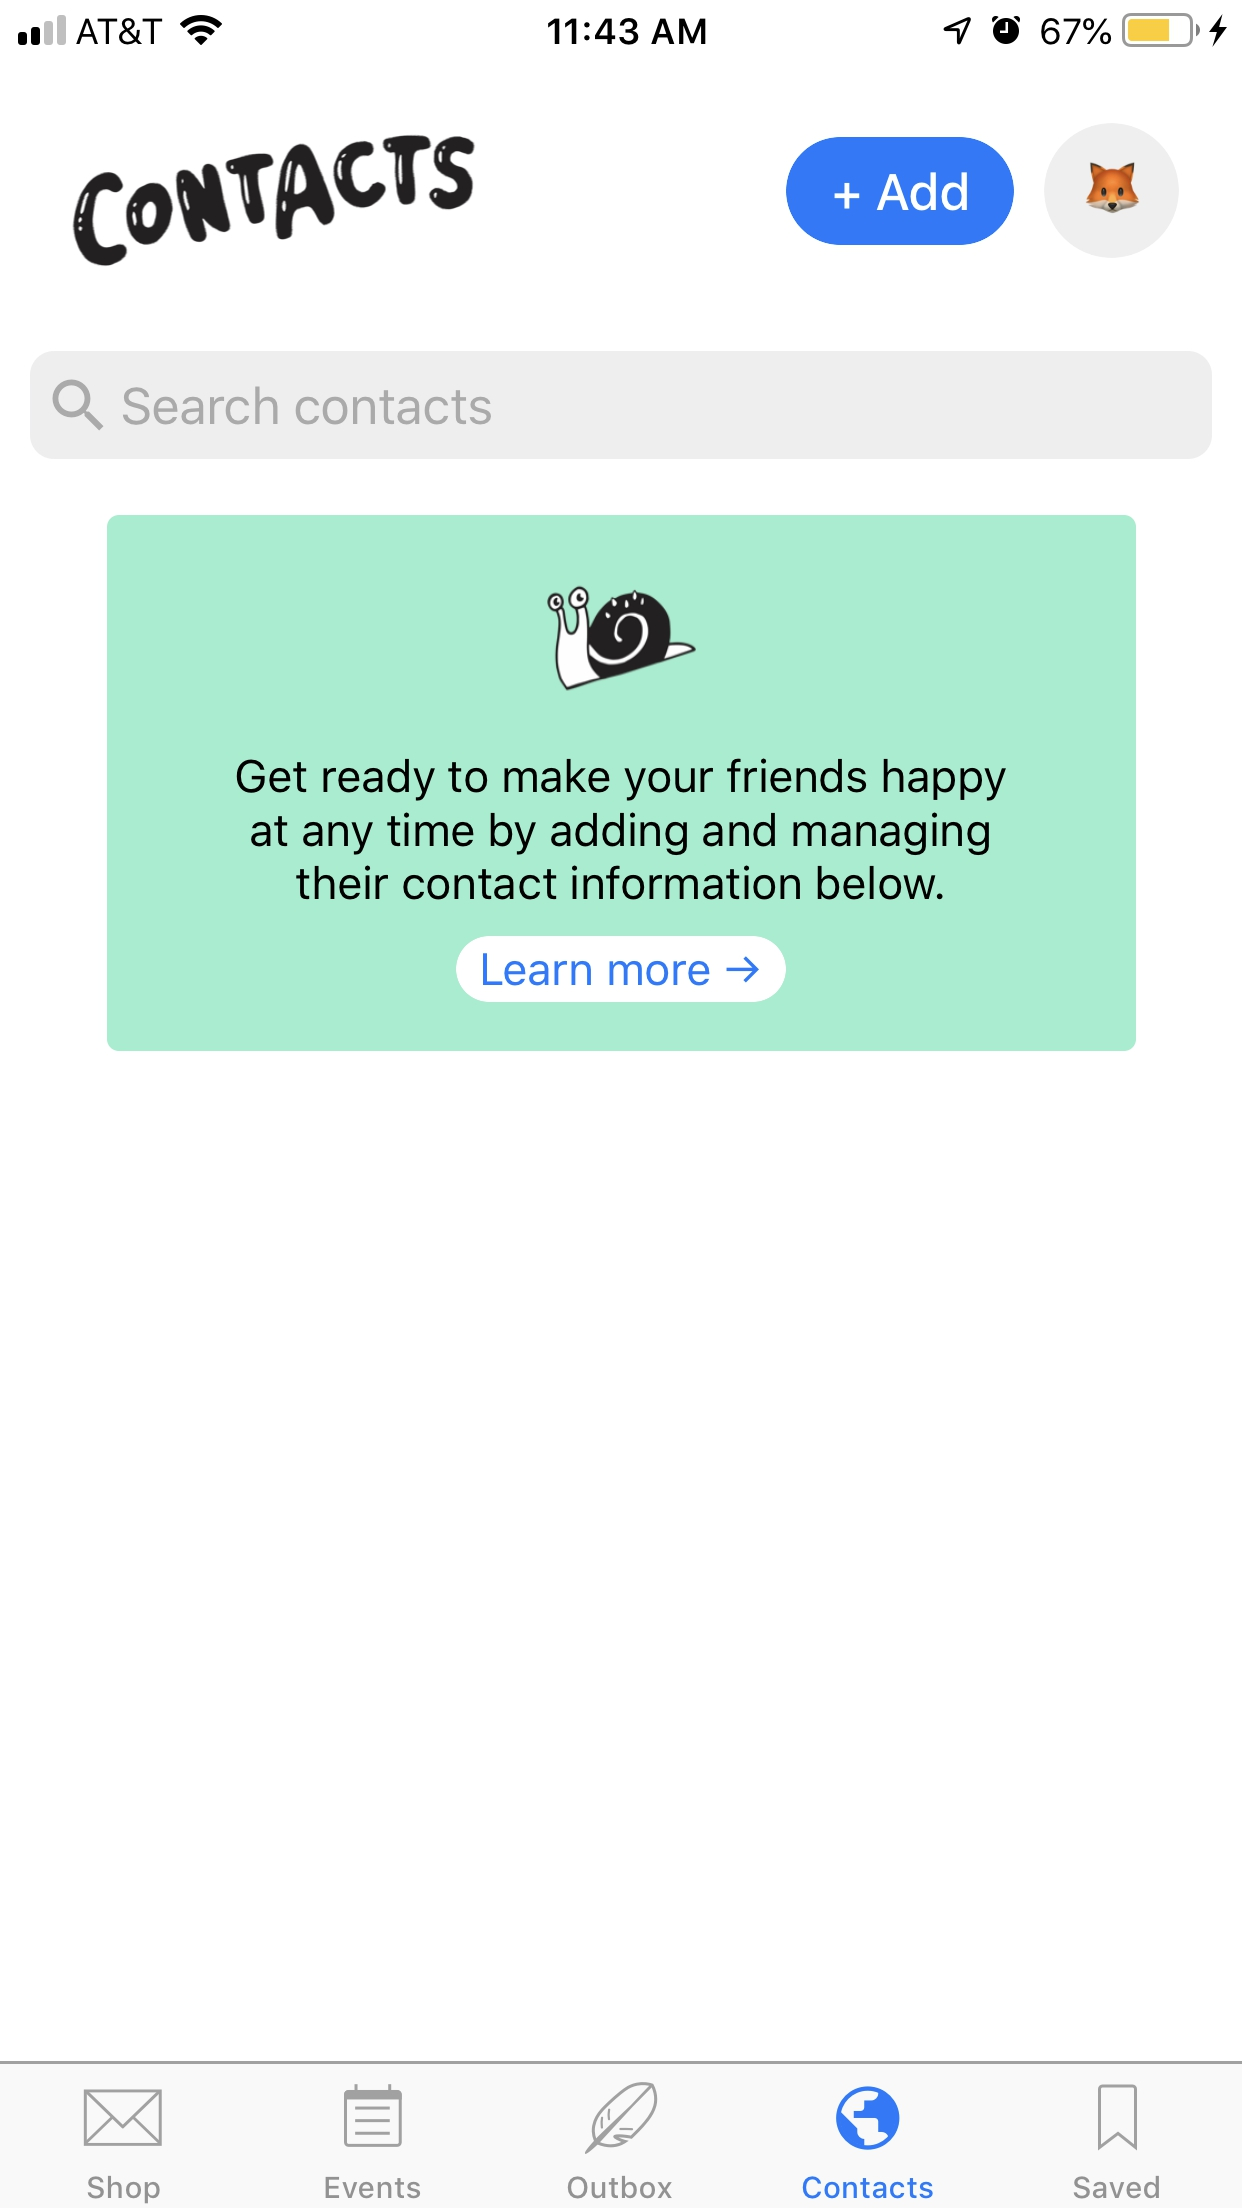EditText: (30, 350, 1213, 459)
Icon: (83, 2088, 164, 2146), (344, 2084, 403, 2147), (53, 379, 105, 432), (1098, 2084, 1137, 2150)
Image: (71, 135, 476, 268), (1043, 123, 1180, 259), (546, 585, 698, 692), (585, 2082, 660, 2155), (836, 2087, 901, 2150)
Text: (237, 760, 1007, 902), (123, 387, 491, 426), (804, 2175, 933, 2199), (567, 2175, 673, 2199), (86, 2175, 161, 2205), (326, 2176, 422, 2199), (1074, 2175, 1160, 2199)
TextButton: (786, 138, 1015, 247), (455, 936, 787, 1004)
UpperTaskBar: (2, 2, 1242, 49)
